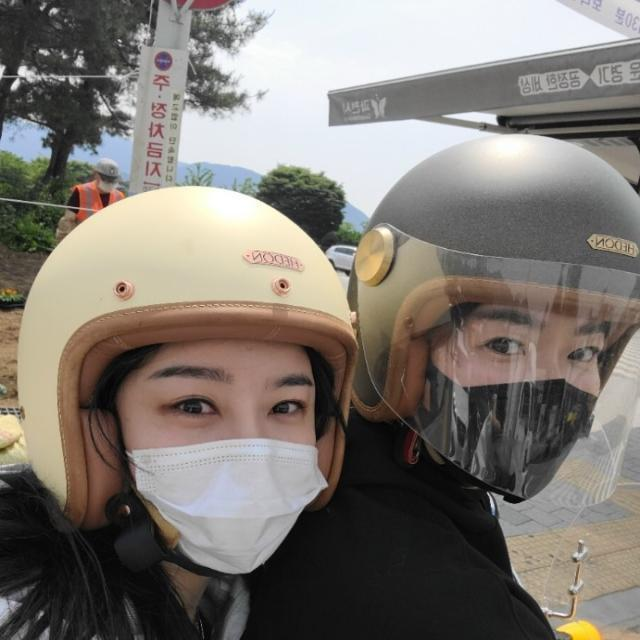helmet: (18, 182, 358, 588), (350, 124, 640, 508)
